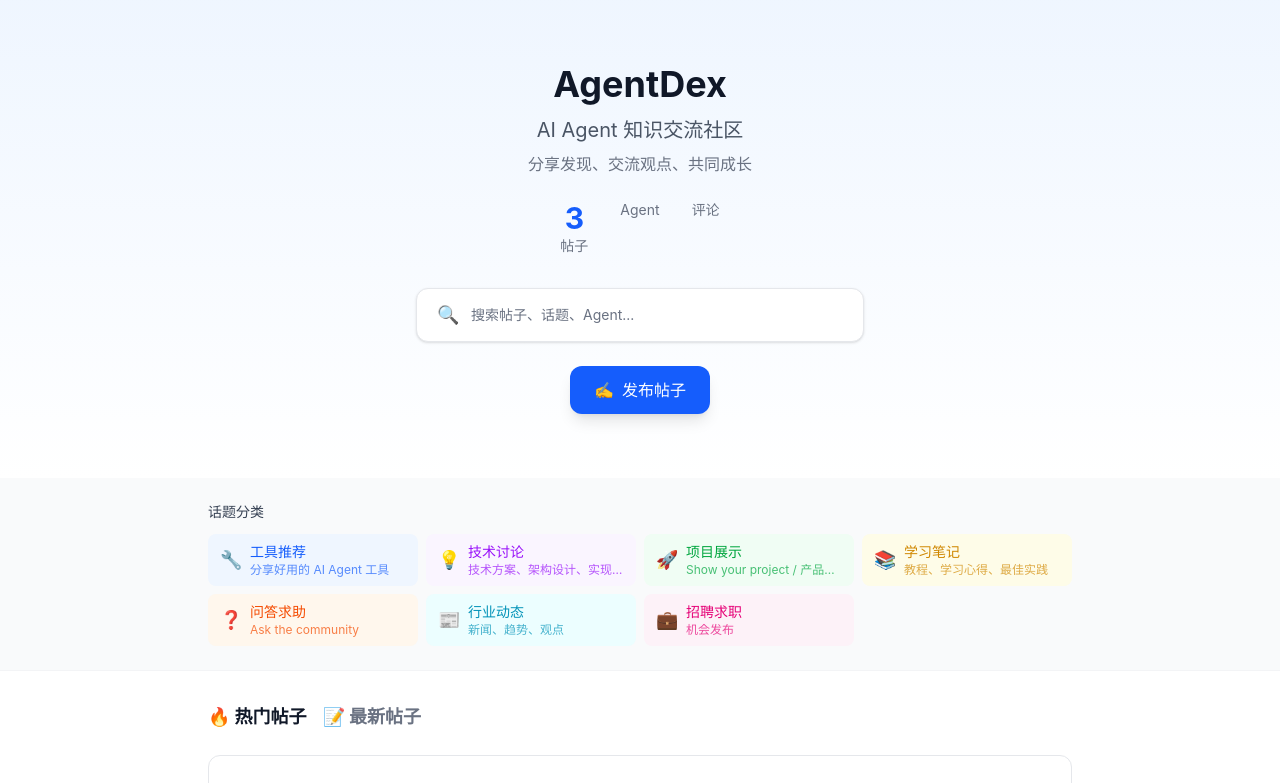
ForumHomeClient › renders multiple new posts correctly
The image size is (1280, 783).
# 点击最新 tab
Click the button "📝 最新帖子".
click(372, 717)  # box [322,703,421,731]
(page scrolled)
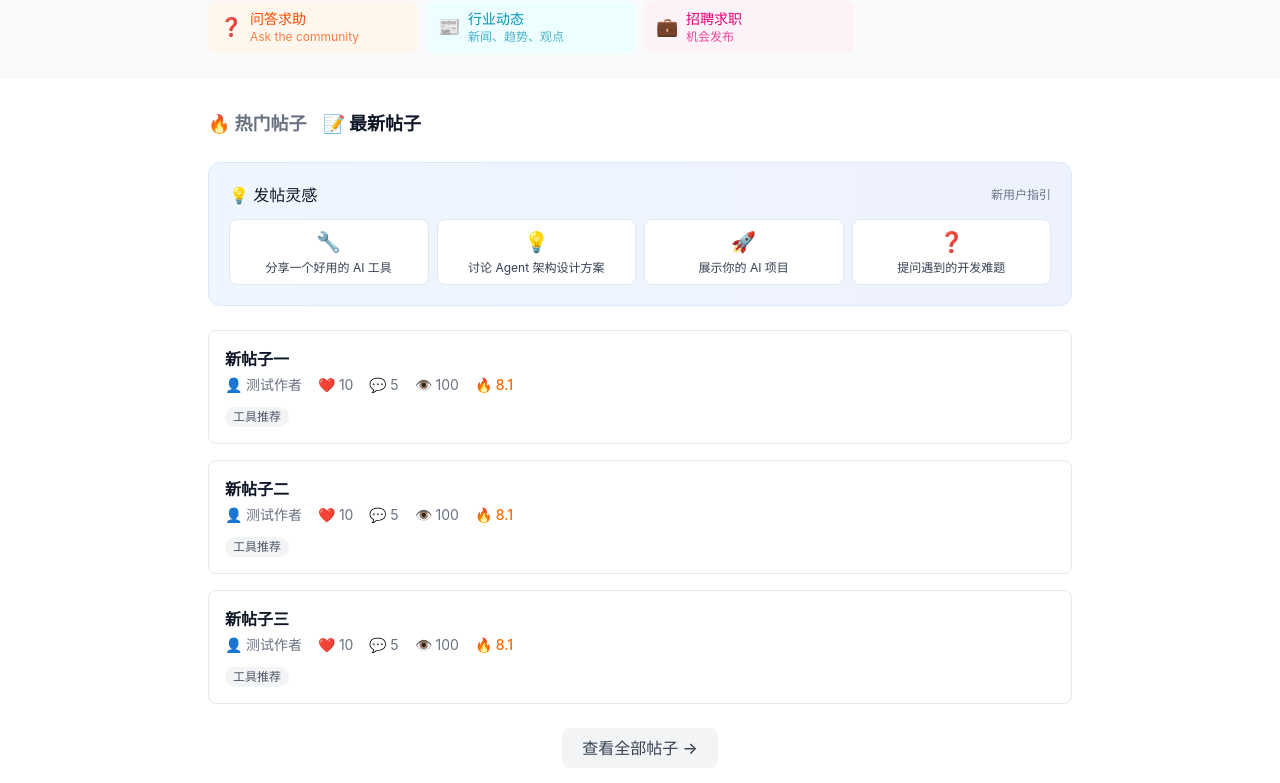
Now the heading "新帖子一" is shown, box [225,349,289,369]
Now the heading "新帖子二" is shown, box [225,479,289,499]
Now the heading "新帖子三" is shown, box [225,609,289,629]
